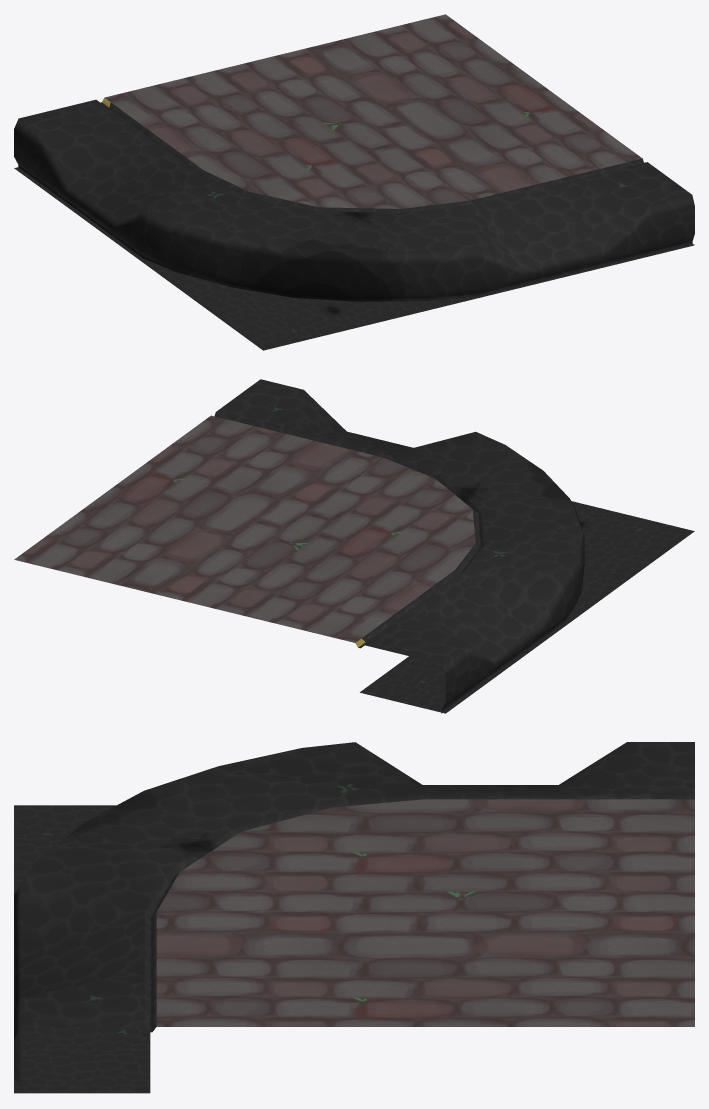
The model's file is veredaesquina.fbx.
The picture shows the model from 3 angles, top to bottom: view 1: azimuth 30°, elevation 25°; view 2: azimuth 150°, elevation 25°; view 3: azimuth 270°, elevation 25°; orthographic projection. The views are drawn at different scales.
Visible parts, largest first — view 1: VeredaEsquina; view 2: VeredaEsquina; view 3: VeredaEsquina.
Boxes of the visible parts, <box> form: VeredaEsquina: <box>14,14,694,350</box>; VeredaEsquina: <box>14,379,694,713</box>; VeredaEsquina: <box>14,742,694,1093</box>.
Bounding box in the file's own units: 5 × 0.551 × 5.
3 materials, 3 textured.
